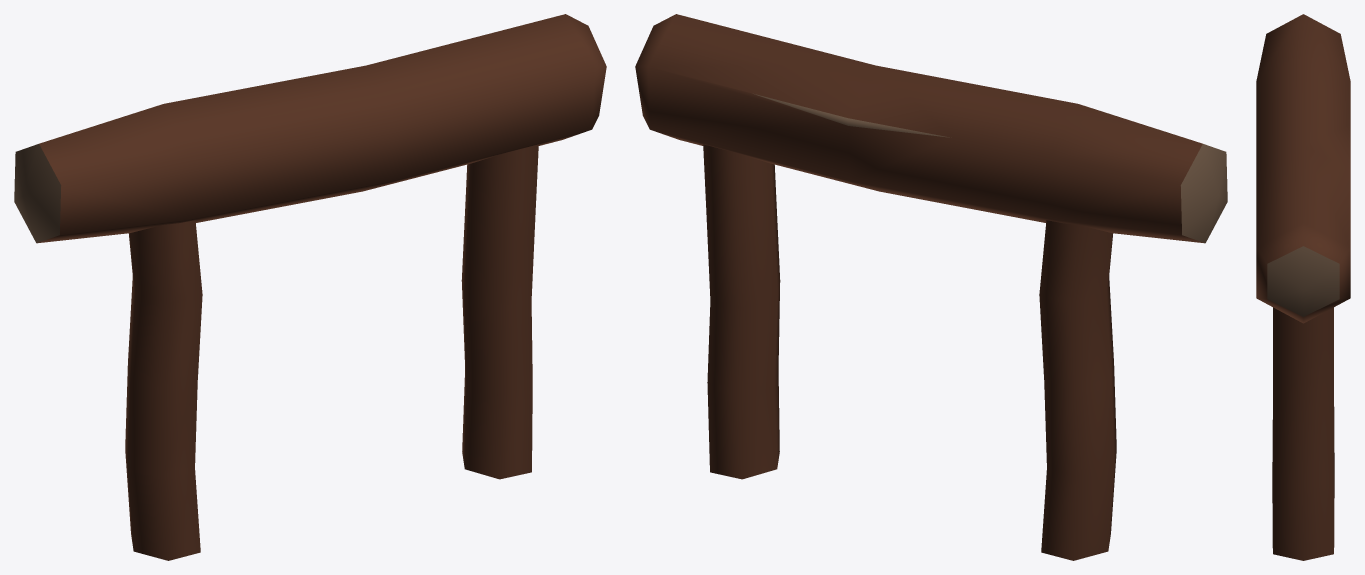
The model's file is _fence.fbx.
3 renders of one model, left to right at view 1: azimuth 30°, elevation 25°; view 2: azimuth 150°, elevation 25°; view 3: azimuth 270°, elevation 25°, orthographic. The views are drawn at different scales.
Parts seen in each view (by area): view 1: polySurface1; view 2: polySurface1; view 3: polySurface1.
Boxes of the visible parts, left/top/right/bottom form: polySurface1: left=14, top=14, right=606, bottom=560; polySurface1: left=635, top=14, right=1227, bottom=560; polySurface1: left=1256, top=14, right=1350, bottom=560.
Bounding box in the file's own units: 370 × 271 × 64.4.
